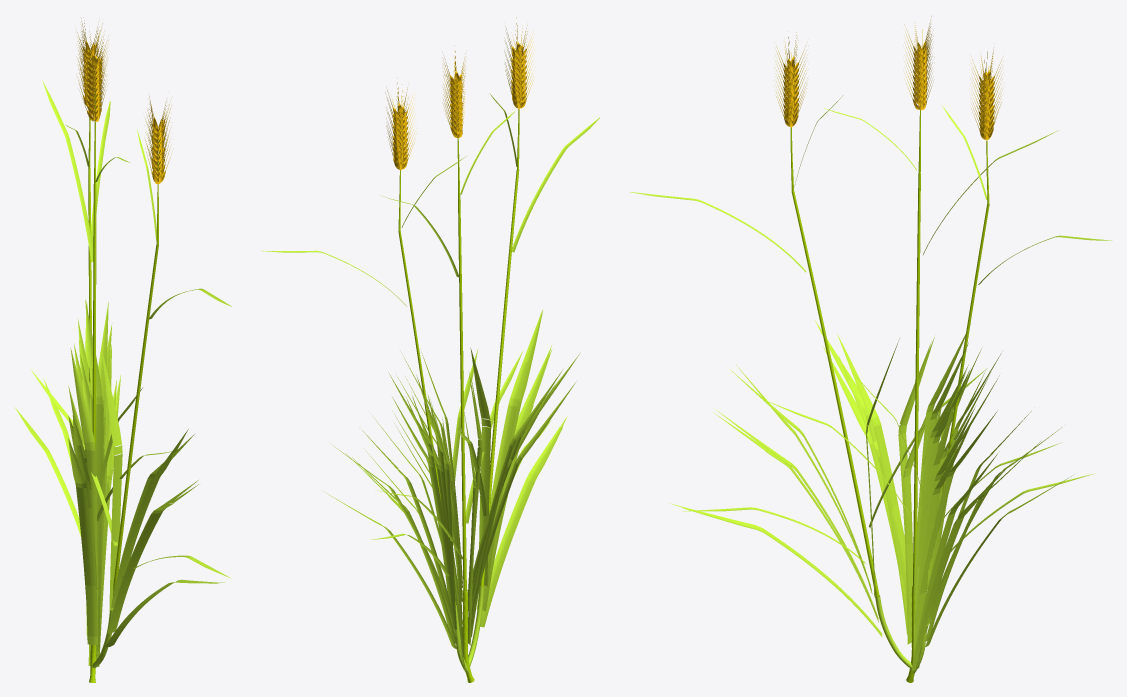
Rendered from Ble_20.obj.
3 views of the same model, side by side, from view 1: azimuth 30°, elevation 25°; view 2: azimuth 150°, elevation 25°; view 3: azimuth 270°, elevation 25° (orthographic). The views are drawn at different scales.
Parts seen in each view (by area): view 1: Mesh81, Mesh41, Mesh50; view 2: Mesh81, Mesh41, Mesh50, Mesh21; view 3: Mesh81, Mesh41, Mesh50.
Boxes of the visible parts, x1,y1,x2,y2 form: Mesh81: (15, 81, 231, 666); Mesh41: (88, 72, 158, 595); Mesh50: (77, 18, 171, 183); Mesh81: (262, 93, 599, 670); Mesh41: (398, 109, 519, 604); Mesh50: (385, 17, 533, 170); Mesh21: (455, 586, 484, 673); Mesh81: (629, 95, 1112, 670); Mesh41: (790, 109, 989, 596); Mesh50: (775, 16, 1002, 140).
Bounding box in the file's own units: 0.2026 × 0.6889 × 0.4492.
